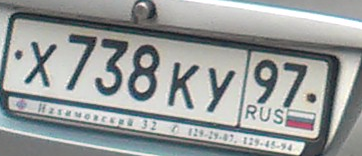character: (126, 38, 161, 105), (93, 35, 129, 99), (65, 34, 99, 96), (20, 39, 59, 92), (202, 63, 239, 116), (164, 62, 202, 110), (250, 57, 282, 110), (281, 60, 312, 112)
